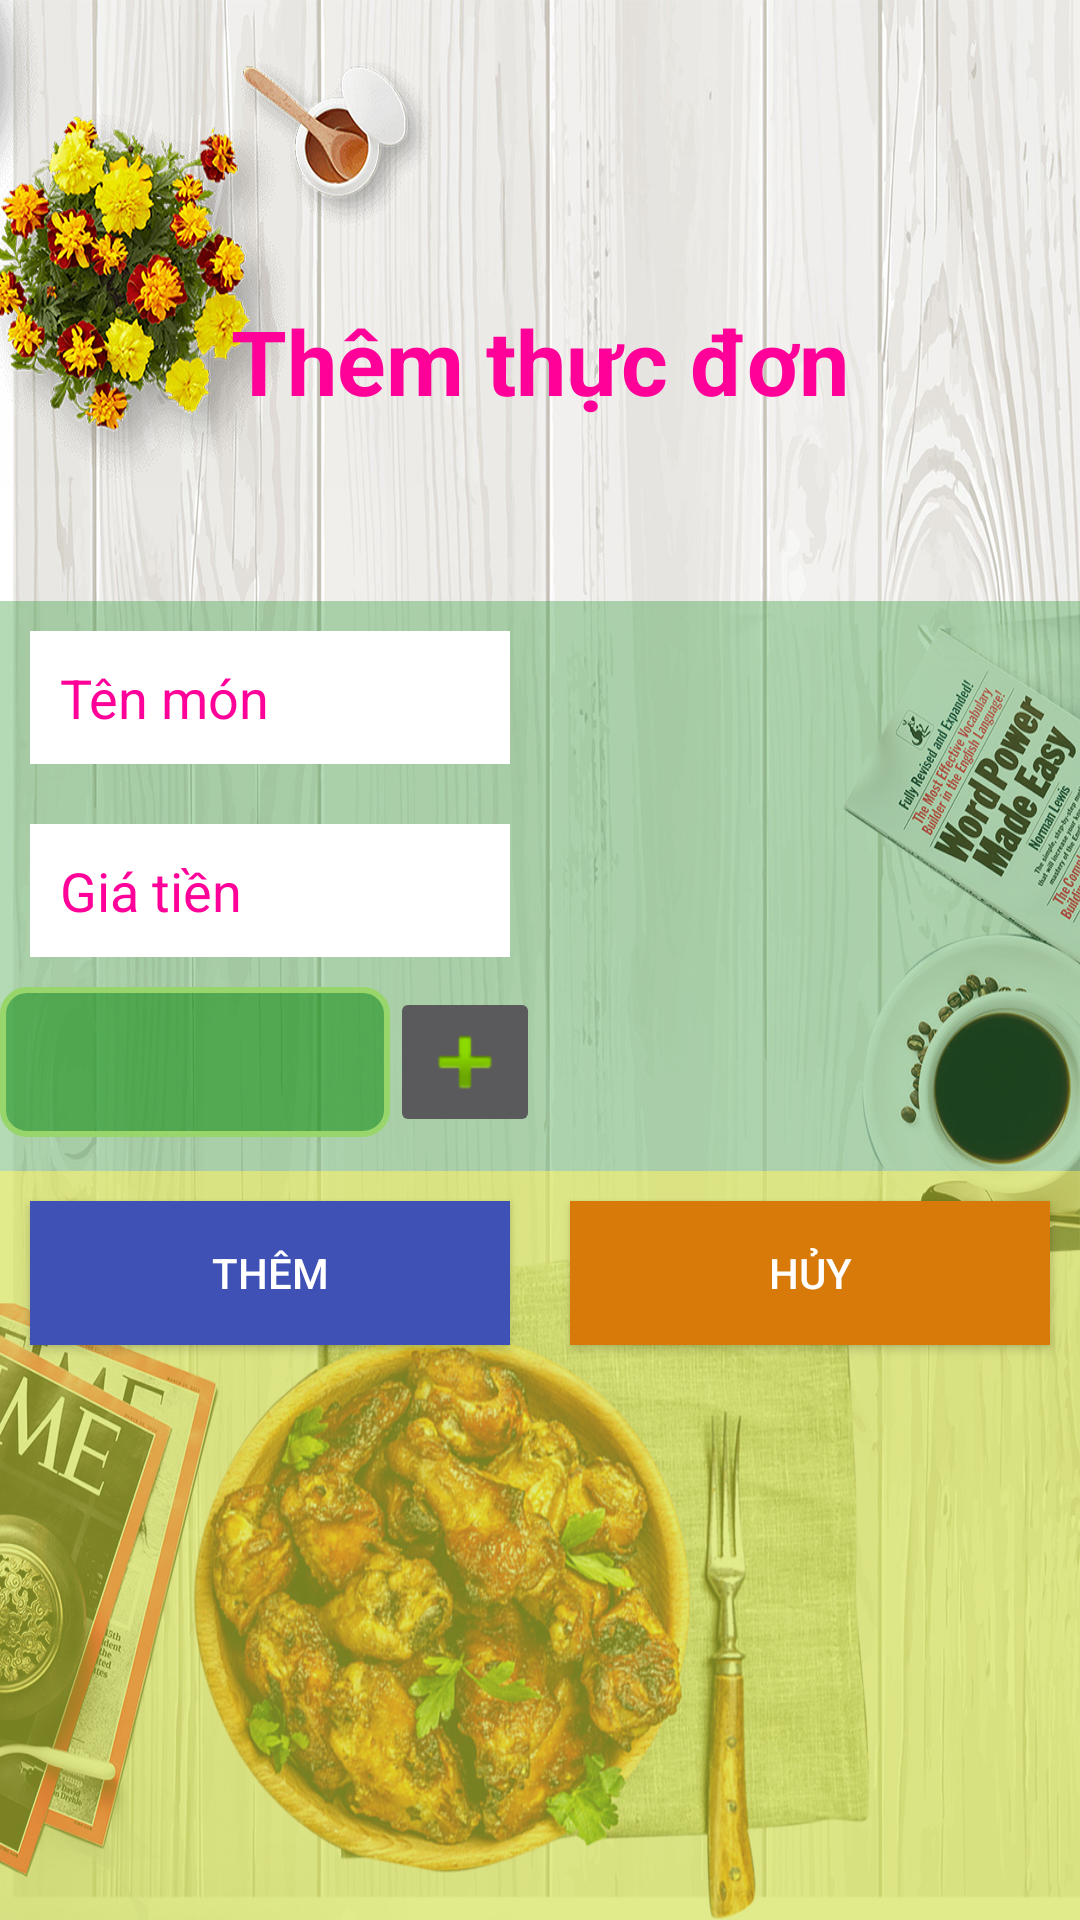

Locate icon controls on the screen. Image size 1080x1920, boxes as (x1, y1, x2, y2).
add: (402, 1005, 528, 1119)
